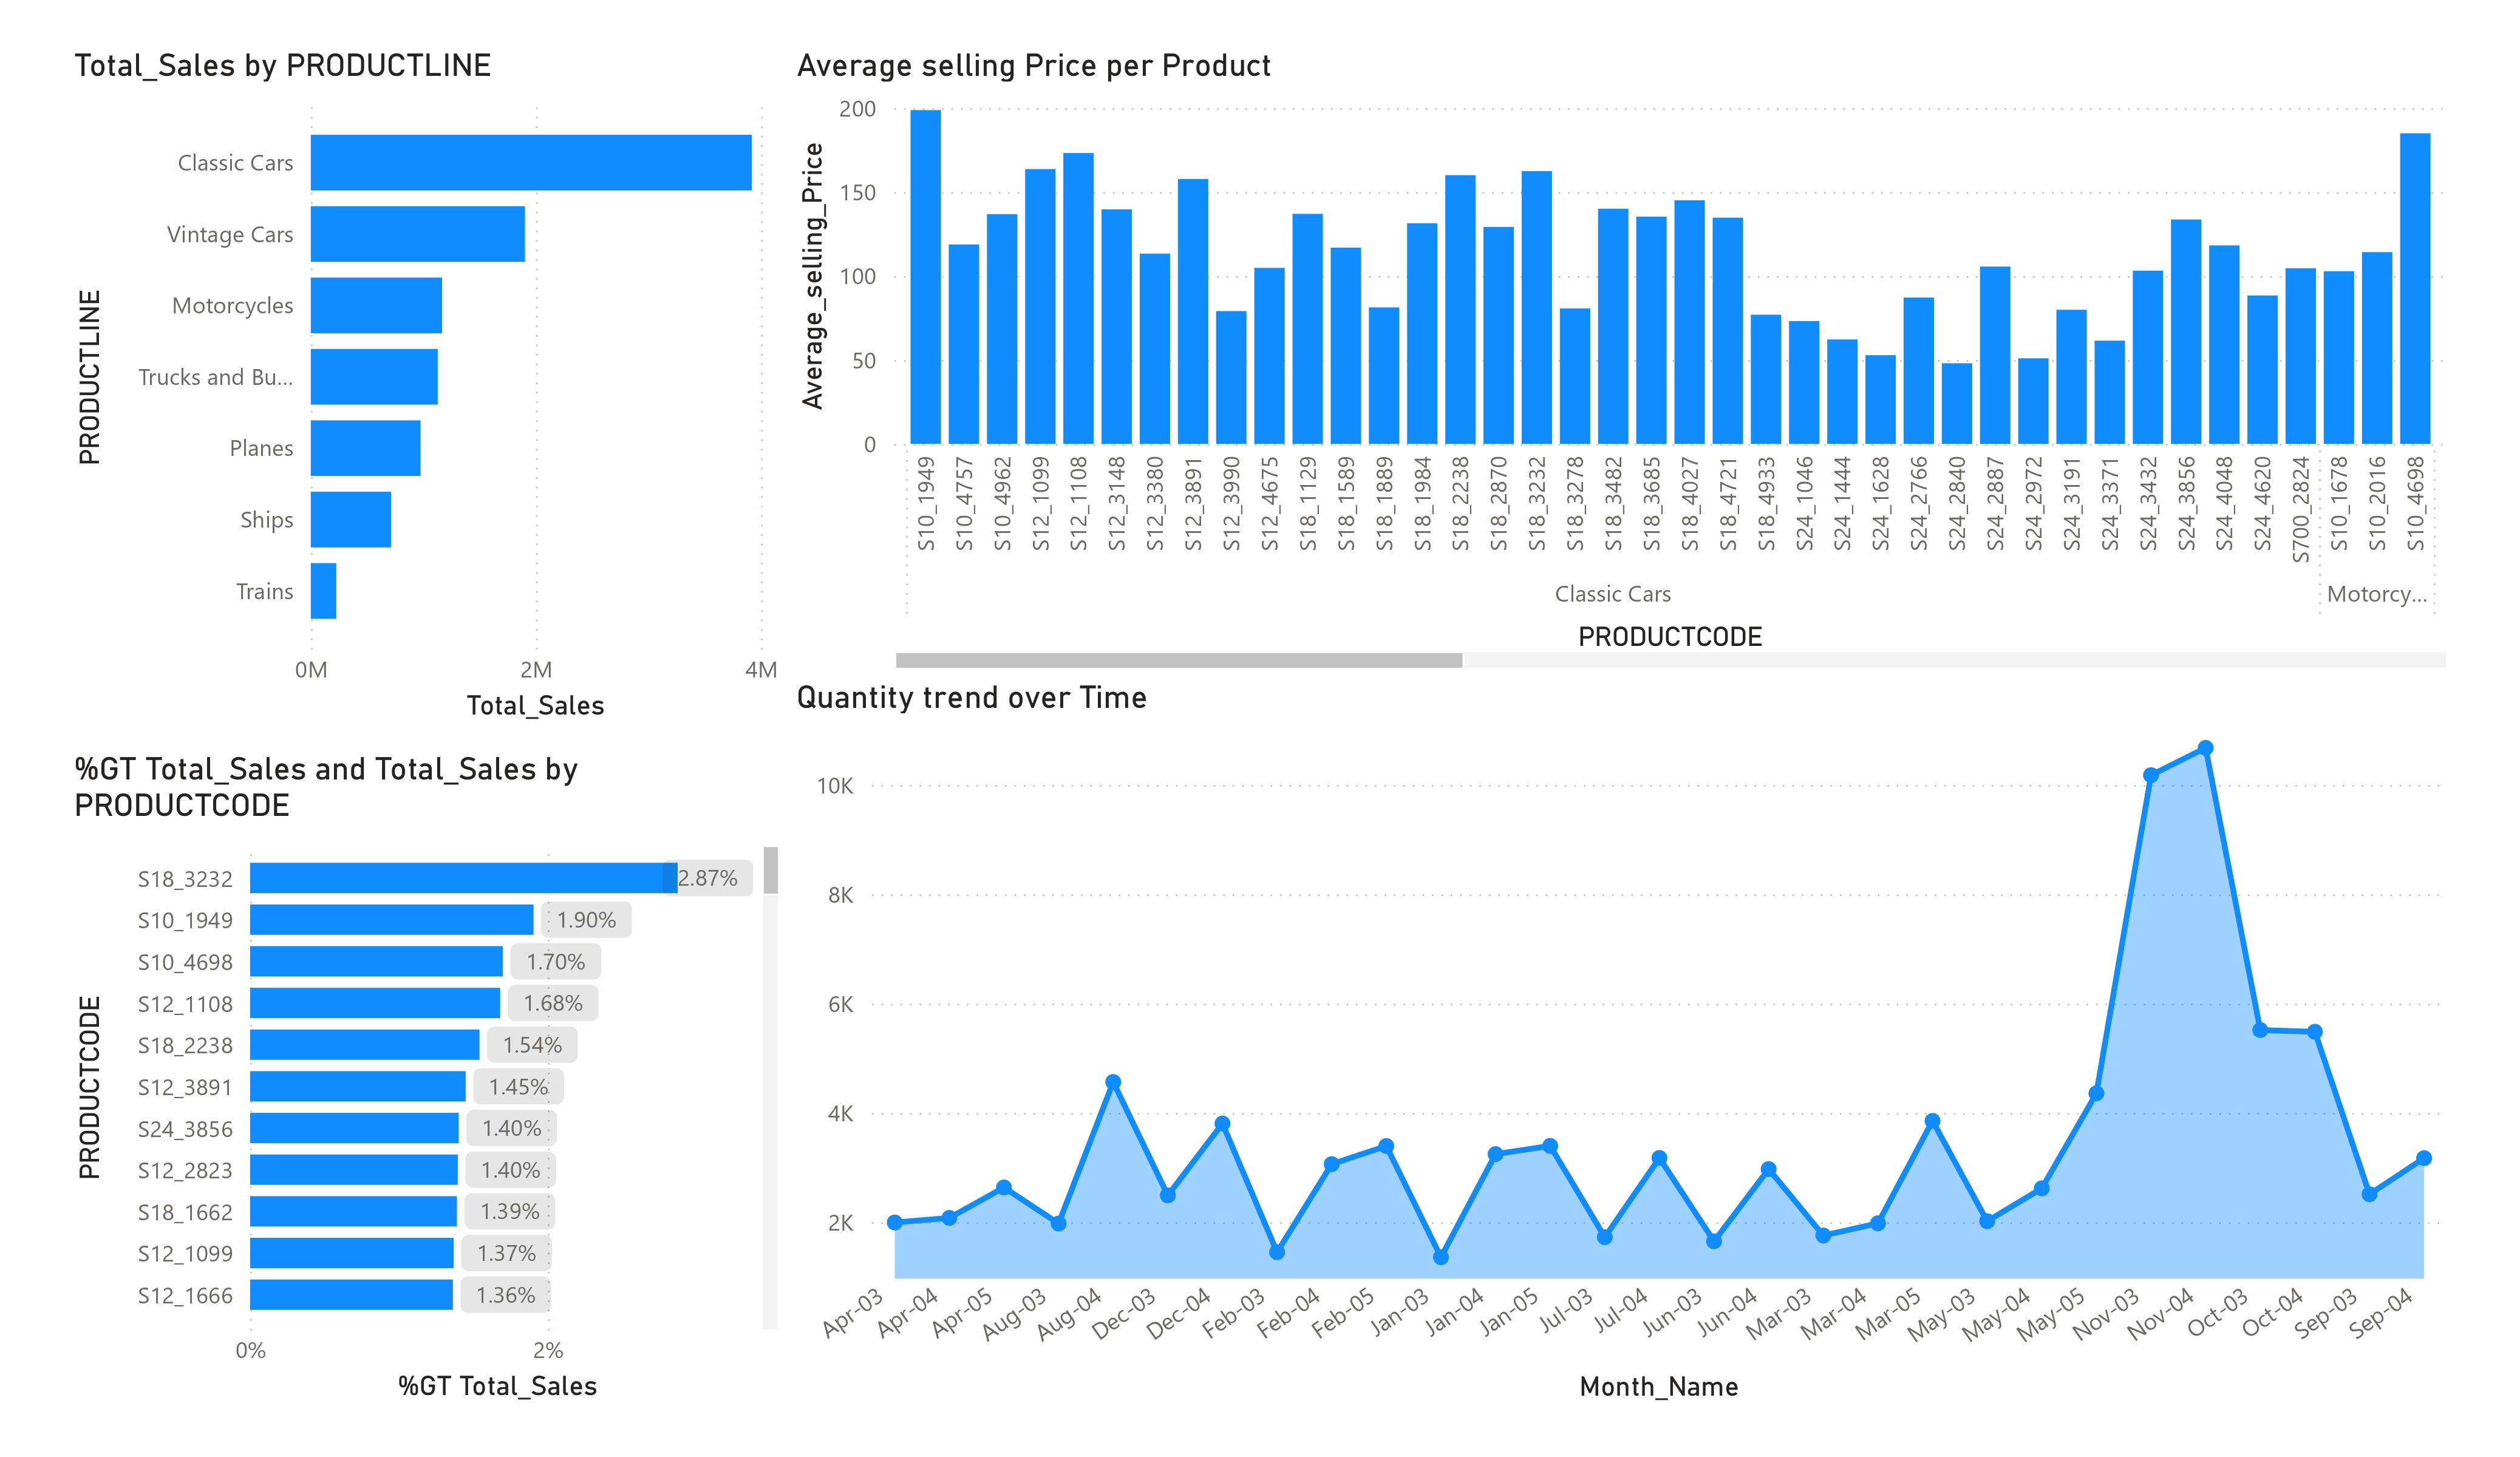

Layout of this report page (visuals, bound fields, positions):
{"tool":"powerbi","page":{"name":"Product Performance","canvas":[1280,720],"ordinal":2},"visuals":[{"type":"clusteredBarChart","fields":{"Category":["sales_data_sample.PRODUCTLINE"],"Y":["Measures (2).Total_Sales"]},"box":[10.2,0,381.1,360.7],"z":0},{"type":"clusteredBarChart","fields":{"Category":["sales_data_sample.PRODUCTCODE"],"Y":["Measures (2).Total_Sales"]},"box":[10,371,381,349],"z":1000},{"type":"lineChart","title":"Quantity trend over Time","fields":{"Y":["Measures (2).Total_quantity"],"Category":["sales_data_sample.Month_Name"]},"box":[391.3,333.1,878.5,386.9],"z":2000},{"type":"lineStackedColumnComboChart","title":"Average selling Price per Product","fields":{"Category":["sales_data_sample.PRODUCTLINE","sales_data_sample.PRODUCTCODE"],"Y":["Measures (2).Average_selling_Price"]},"box":[391,0,879,333],"z":3000}]}

Visuals, with their boxes on the page's 1280x720 design canvas (x1, y1, x2, y2). These are canvas units, not pixel positions in the 2520x1457 screenshot, which may show the page scaled, cropped or inside an application window:
clusteredBarChart - sales_data_sample.PRODUCTLINE x Measures (2).Total_Sales: select_region(10, 0, 391, 361)
clusteredBarChart - sales_data_sample.PRODUCTCODE x Measures (2).Total_Sales: select_region(10, 371, 391, 720)
"Quantity trend over Time" lineChart: select_region(391, 333, 1270, 720)
"Average selling Price per Product" lineStackedColumnComboChart: select_region(391, 0, 1270, 333)
